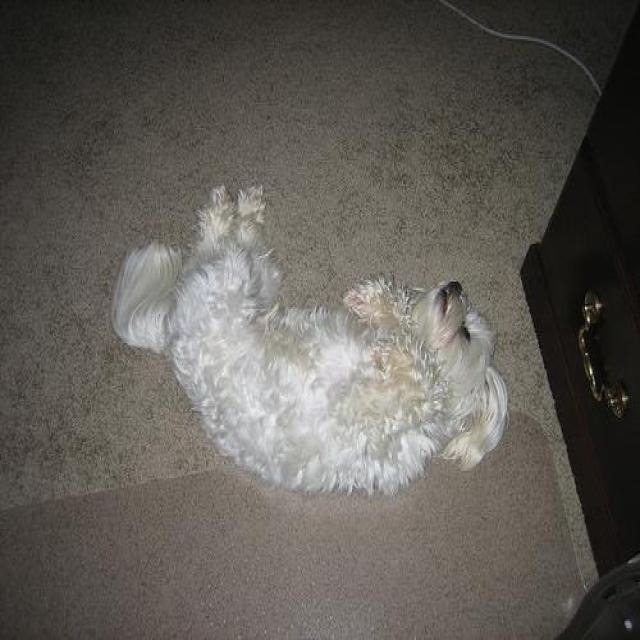maltese_dog: (109, 179, 509, 493)
